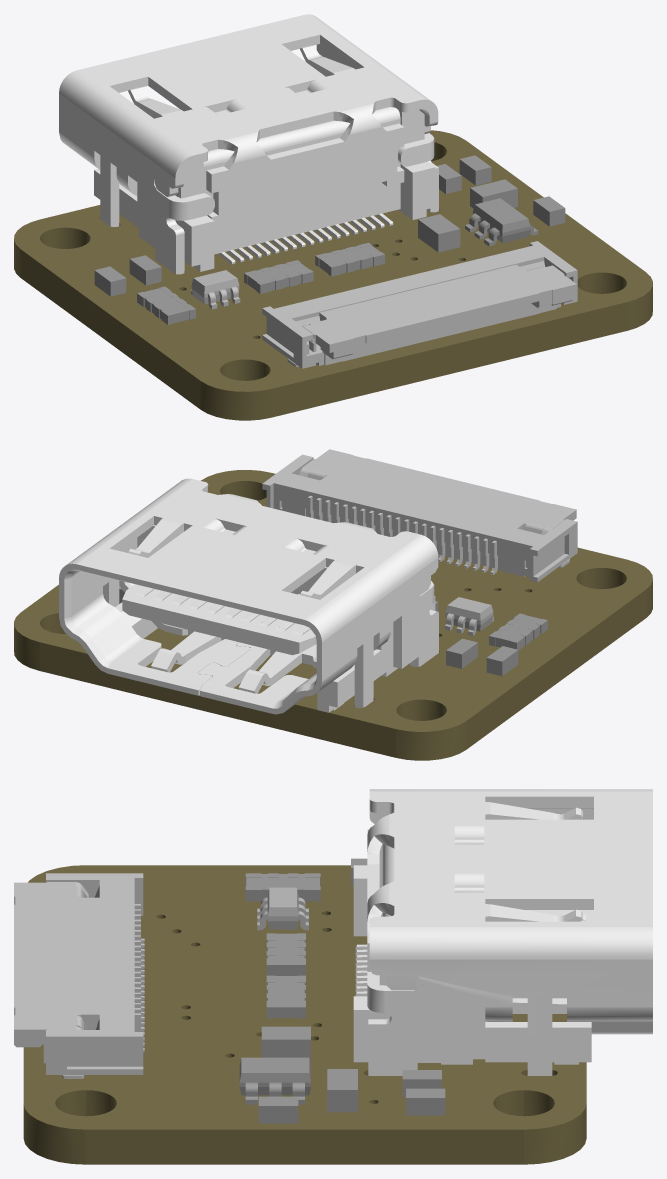
The model's file is ada-6055.glb.
The picture shows the model from 3 angles, top to bottom: view 1: azimuth 30°, elevation 25°; view 2: azimuth 150°, elevation 25°; view 3: azimuth 270°, elevation 25°; orthographic projection. The views are drawn at different scales.
Parts seen in each view (by area): view 1: 0.9166666666666666_0.9166666666666666_0.9166666666666666_0.8, 0.16666666666666666_0.16666666666666666_0.08333333333333333_, 0.5833333333333334_0.5833333333333334_0.5833333333333334_0.8, 0.3333333333333333_0.3333333333333333_0.3333333333333333_0, 0.5_0.5_0.5_0.85; view 2: 0.9166666666666666_0.9166666666666666_0.9166666666666666_0.8, 0.16666666666666666_0.16666666666666666_0.08333333333333333_, 0.5833333333333334_0.5833333333333334_0.5833333333333334_0.8, 0.3333333333333333_0.3333333333333333_0.3333333333333333_0, 0.5_0.5_0.5_0.85; view 3: 0.16666666666666666_0.16666666666666666_0.08333333333333333_, 0.9166666666666666_0.9166666666666666_0.9166666666666666_0.8, 0.5833333333333334_0.5833333333333334_0.5833333333333334_0.8, 0.3333333333333333_0.3333333333333333_0.3333333333333333_0, 0.5_0.5_0.5_0.85.
Part boxes in pixels (x1,y1,x2,y2): 0.9166666666666666_0.9166666666666666_0.9166666666666666_0.8: (59,14,438,274); 0.16666666666666666_0.16666666666666666_0.08333333333333333_: (14,130,652,420); 0.5833333333333334_0.5833333333333334_0.5833333333333334_0.8: (262,241,577,368); 0.3333333333333333_0.3333333333333333_0.3333333333333333_0: (94,155,565,324); 0.5_0.5_0.5_0.85: (191,270,240,309); 0.9166666666666666_0.9166666666666666_0.9166666666666666_0.8: (59,478,438,714); 0.16666666666666666_0.16666666666666666_0.08333333333333333_: (14,470,652,760); 0.5833333333333334_0.5833333333333334_0.5833333333333334_0.8: (262,449,577,582); 0.3333333333333333_0.3333333333333333_0.3333333333333333_0: (119,585,547,676); 0.5_0.5_0.5_0.85: (444,597,493,636); 0.16666666666666666_0.16666666666666666_0.08333333333333333_: (23,865,586,1164); 0.9166666666666666_0.9166666666666666_0.9166666666666666_0.8: (353,789,652,1075); 0.5833333333333334_0.5833333333333334_0.5833333333333334_0.8: (14,873,144,1078); 0.3333333333333333_0.3333333333333333_0.3333333333333333_0: (239,858,445,1123); 0.5_0.5_0.5_0.85: (257,887,308,930).
Size of the model in its own units: 2.54 by 0.8386 by 2.59.
